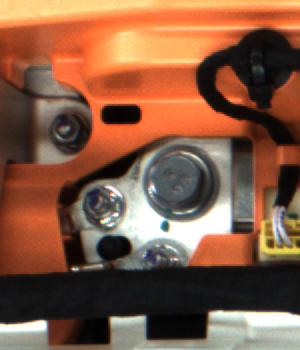nut_b: (145, 146, 221, 222)
